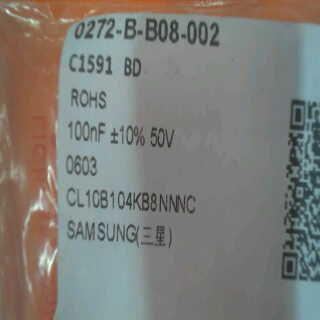100nF: (60, 118, 118, 145)
